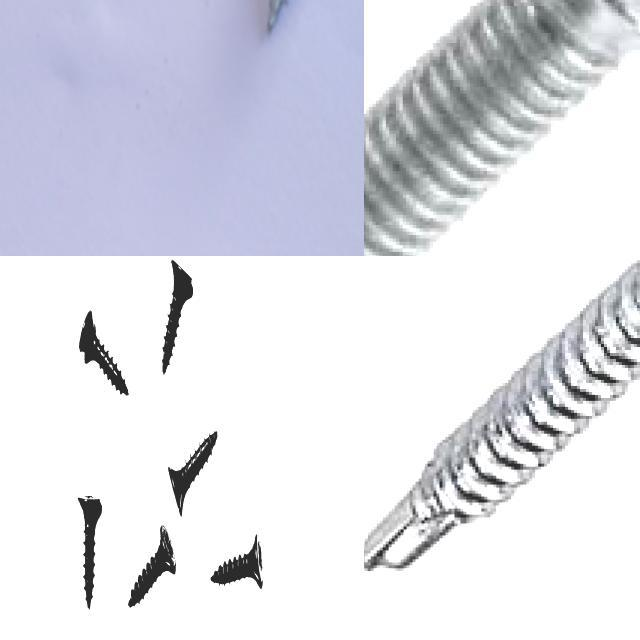Screw: (364, 256, 640, 574), (364, 0, 640, 256), (78, 309, 128, 393), (168, 430, 217, 515), (128, 524, 176, 606), (162, 257, 193, 372), (211, 533, 263, 587), (78, 494, 102, 607)
